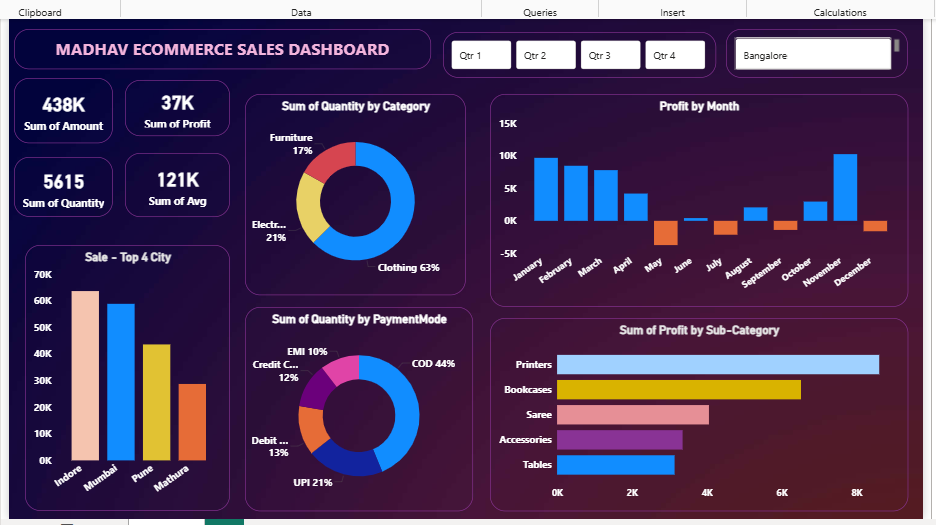

This screenshot's page, from the dashboard's own definition file:
{"tool":"powerbi","page":{"name":"Page 1","canvas":[1500,820],"ordinal":0},"visuals":[{"type":"textbox","box":[8.2,16.4,683.9,65.6],"z":0},{"type":"columnChart","title":"Profit by Month","fields":{"Category":["Orders.Order Date.Variation.Date Hierarchy.Month"],"Y":["Sum(Details.Profit)"]},"box":[788.8,123,685.5,349.3],"z":1000},{"type":"barChart","fields":{"Category":["Details.Sub-Category"],"Y":["Sum(Details.Profit)"]},"box":[788.8,490.4,685.5,316.5],"z":2000},{"type":"donutChart","fields":{"Category":["Details.Category"],"Y":["Sum(Details.Quantity)"]},"box":[387,123,362.4,329.6],"z":3000},{"type":"donutChart","fields":{"Y":["Sum(Details.Quantity)"],"Category":["Details.PaymentMode"]},"box":[387,472.3,373.9,334.6],"z":4000},{"type":"card","fields":{"Values":["Sum(Details.Amount)"]},"box":[8.2,96.8,162.4,106.6],"z":5000},{"type":"card","fields":{"Values":["Sum(Details.Quantity)"]},"box":[8.2,226.3,162.4,98.4],"z":6000},{"type":"card","fields":{"Values":["Sum(Details.Profit)"]},"box":[190.2,100,172.2,91.8],"z":7000},{"type":"card","fields":{"Values":["Sum(Details.Avg)"]},"box":[190.2,219.8,172.2,105],"z":8000},{"type":"clusteredColumnChart","title":"Sale - Top 4 City","fields":{"Category":["Orders.City"],"Y":["Sum(Details.Amount)"]},"box":[26.2,370.6,336.2,436.2],"z":9000},{"type":"advancedSlicerVisual","fields":{"Values":["Orders.Order Date.Variation.Date Hierarchy.Quarter"]},"box":[711.8,21.3,447.7,75.4],"z":10000},{"type":"advancedSlicerVisual","fields":{"Values":["Orders.City"]},"box":[1175.9,16.4,298.5,80.4],"z":11000}]}

Visuals, with their boxes on the page's 1500x820 design canvas (x1, y1, x2, y2). These are canvas units, not pixel positions in the 936x525 screenshot, which may show the page scaled, cropped or inside an application window:
textbox: bbox=(8, 16, 692, 82)
"Profit by Month" columnChart: bbox=(789, 123, 1474, 472)
barChart - Details.Sub-Category x Sum(Details.Profit): bbox=(789, 490, 1474, 807)
donutChart - Details.Category x Sum(Details.Quantity): bbox=(387, 123, 749, 453)
donutChart - Sum(Details.Quantity) x Details.PaymentMode: bbox=(387, 472, 761, 807)
card - Sum(Details.Amount): bbox=(8, 97, 171, 203)
card - Sum(Details.Quantity): bbox=(8, 226, 171, 325)
card - Sum(Details.Profit): bbox=(190, 100, 362, 192)
card - Sum(Details.Avg): bbox=(190, 220, 362, 325)
"Sale - Top 4 City" clusteredColumnChart: bbox=(26, 371, 362, 807)
advancedSlicerVisual - Orders.Order Date.Variation.Date Hierarchy.Quarter: bbox=(712, 21, 1160, 97)
advancedSlicerVisual - Orders.City: bbox=(1176, 16, 1474, 97)
